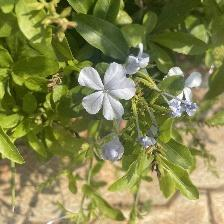chitrak: (78, 60, 134, 121)
